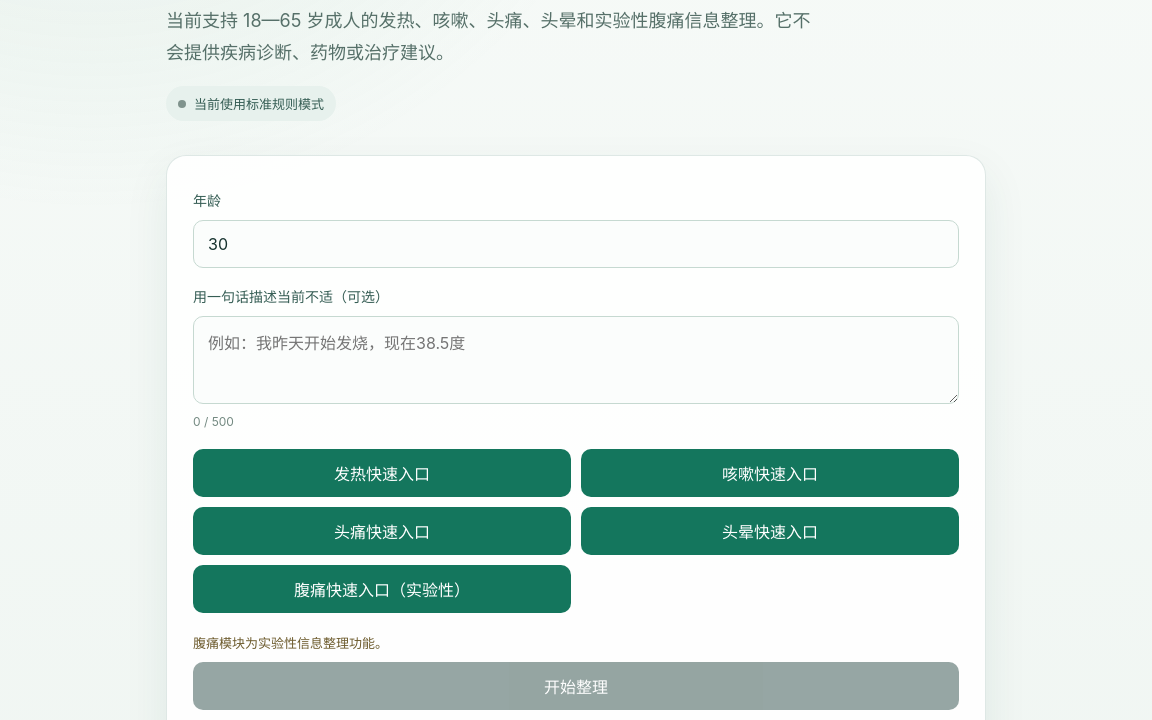
患者端基础流程 › 无关文本显示 unsupported，不伪装成自然语言理解
(page scrolled)
Type "我想咨询一件别的事情" into the text box labelled "用一句话描述当前不适（可选）". click: (576, 360)
box: left=193, top=316, right=959, bottom=404
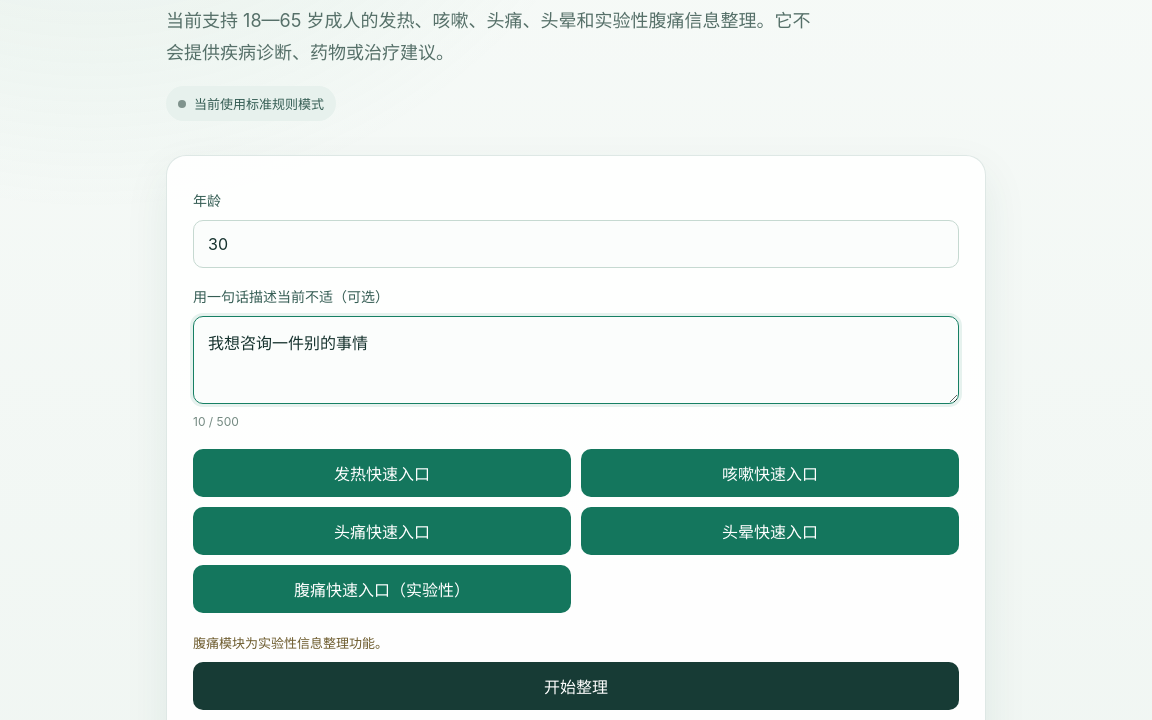
Click the button "开始整理". click: (576, 686)
box: left=193, top=662, right=959, bottom=710
(page scrolled)
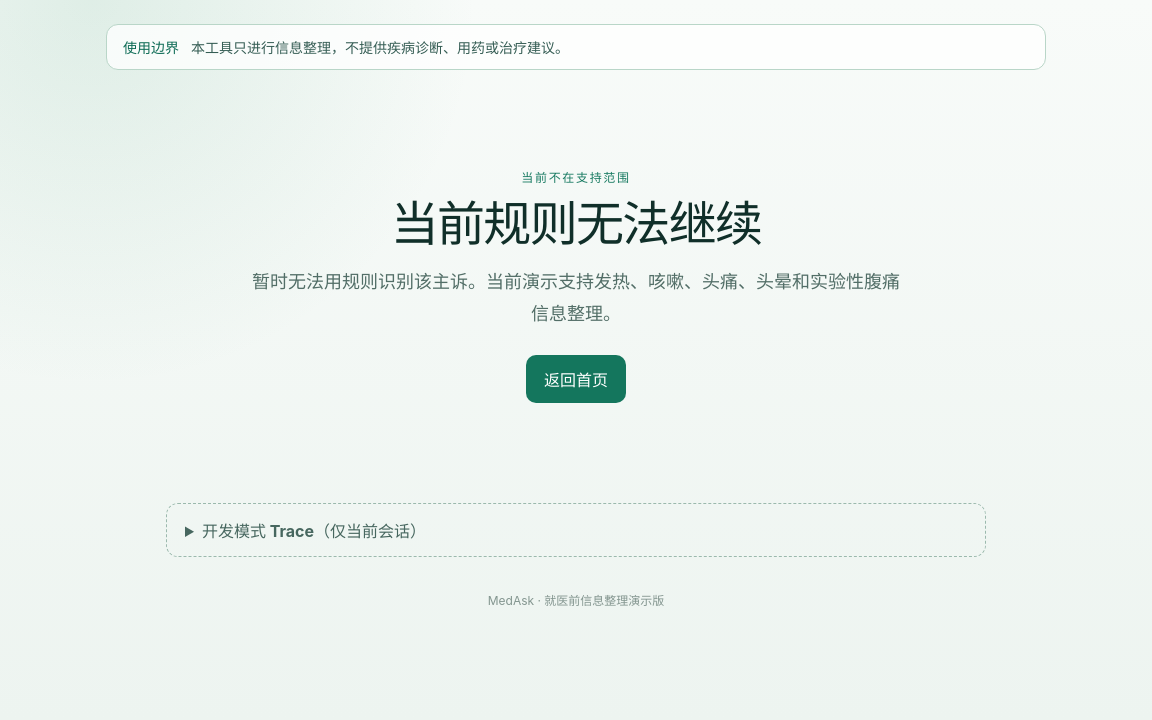
expect the heading "当前规则无法继续" is shown: met, box left=391, top=194, right=761, bottom=253
expect the text "暂时无法用规则识别该主诉。当前演示支持发热、咳嗽、头痛、头晕和实验性腹痛信息整理。" is shown: met, box left=251, top=266, right=901, bottom=331
